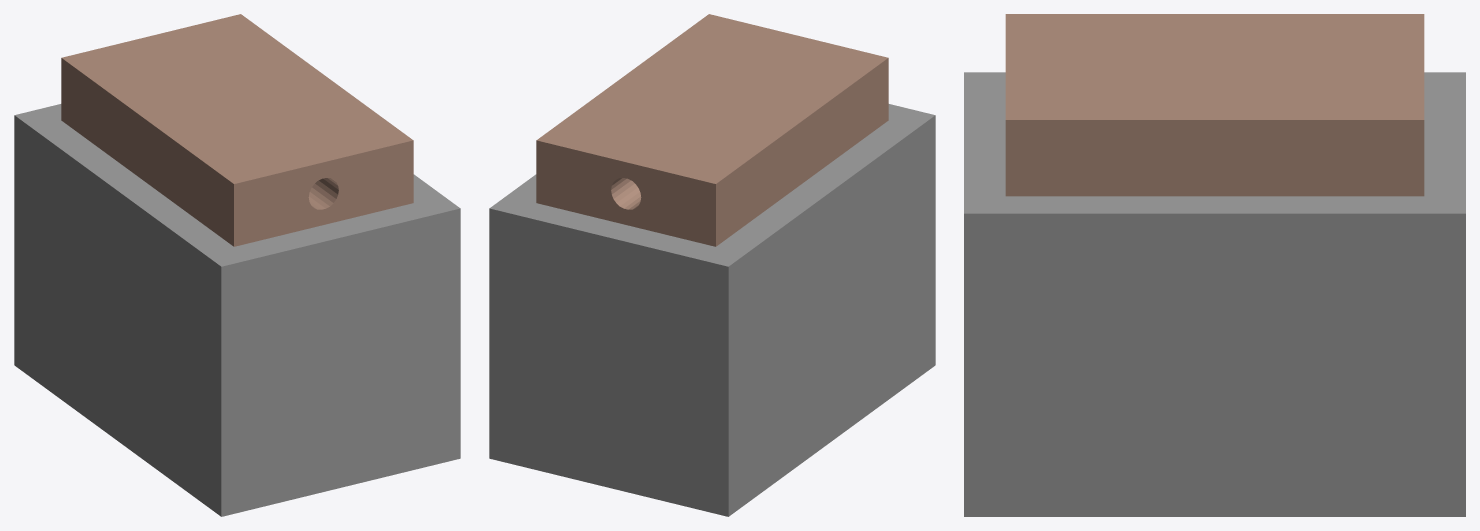
3 views of the same model, side by side, from view 1: azimuth 30°, elevation 25°; view 2: azimuth 150°, elevation 25°; view 3: azimuth 270°, elevation 25° (orthographic). The views are drawn at different scales.
Bounding box in the file's own units: 0.8 × 1 × 1.2.
